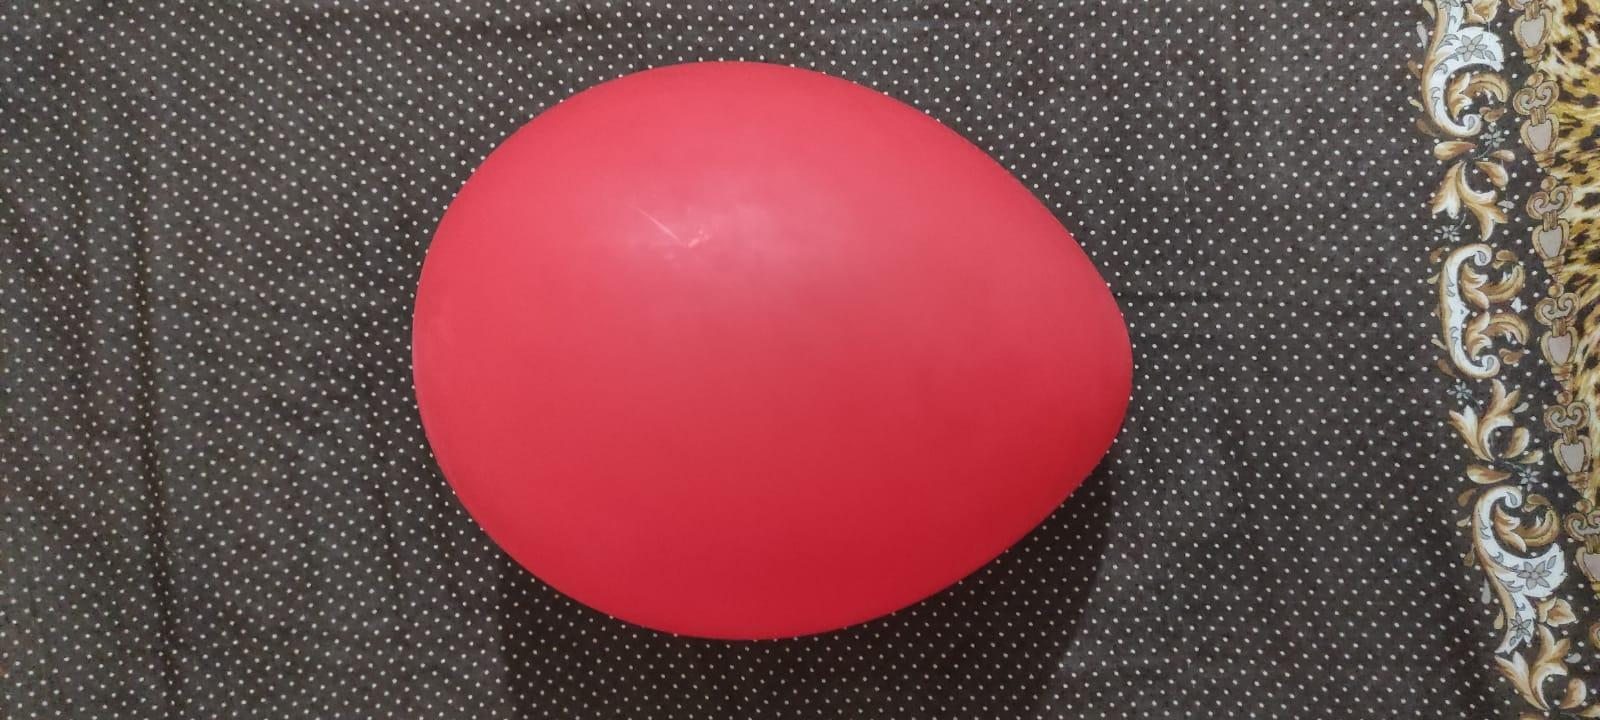red: (405, 52, 1140, 651)
